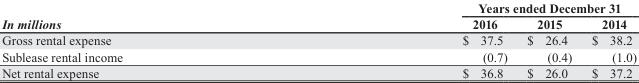table: (1, 0, 635, 79)
table column: (1, 0, 291, 79), (291, 0, 516, 79), (516, 0, 581, 79), (581, 0, 635, 79)
table column header: (1, 0, 635, 31)
table row: (1, 31, 635, 48), (1, 15, 635, 31), (1, 48, 635, 64), (1, 0, 635, 15), (1, 64, 635, 79)
table spanning cell: (1, 0, 291, 31), (291, 0, 635, 15)
